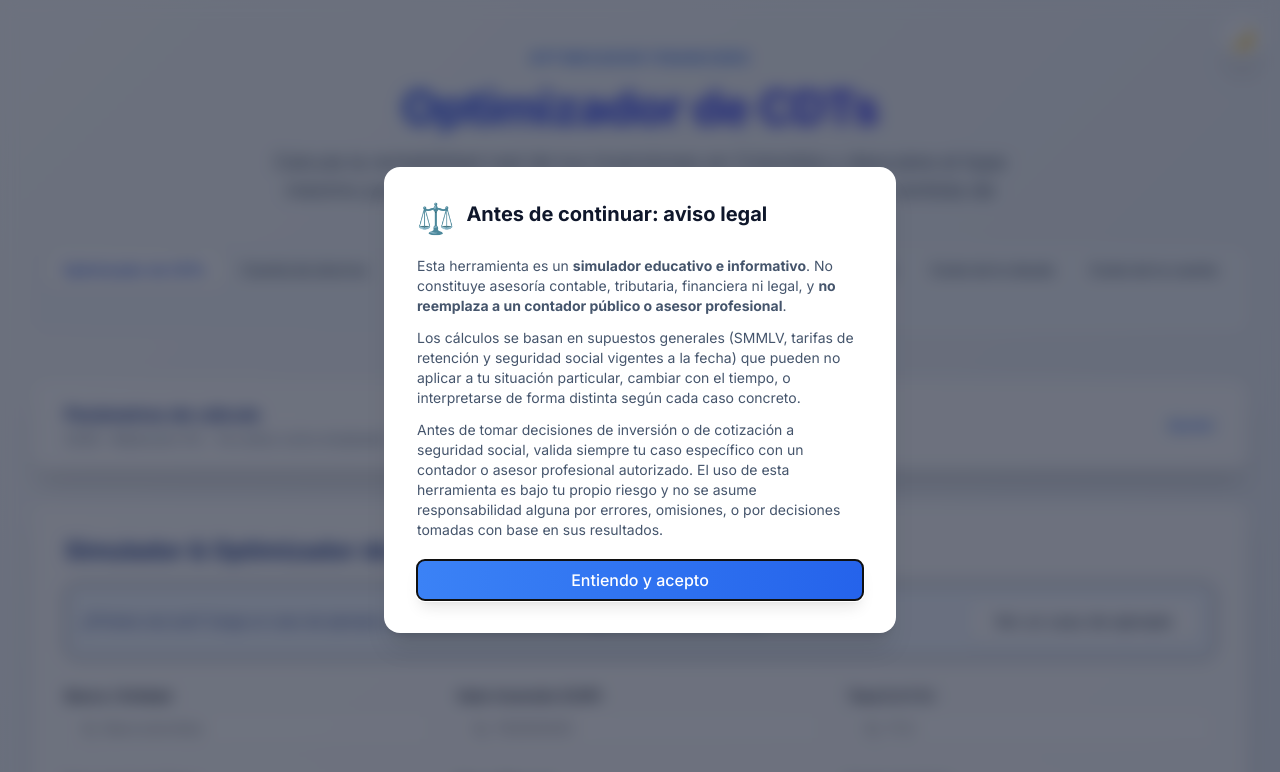
App › cambiar a la pestaña "Costo de tu deuda" muestra esa herramienta
Click the button "Entiendo y acepto" at (640, 580), box top-left (417, 560), bottom-right (863, 600)
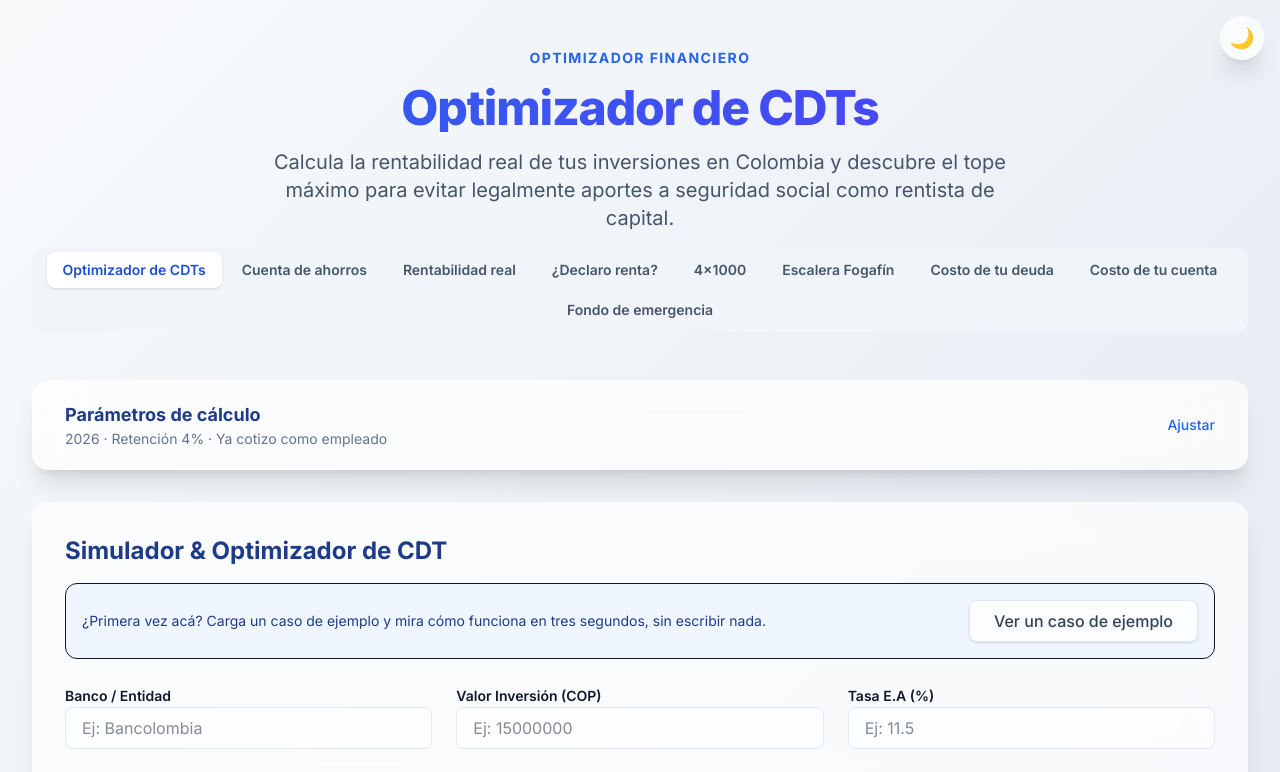
Click the link "Costo de tu deuda" at (992, 270), box top-left (930, 261), bottom-right (1054, 278)
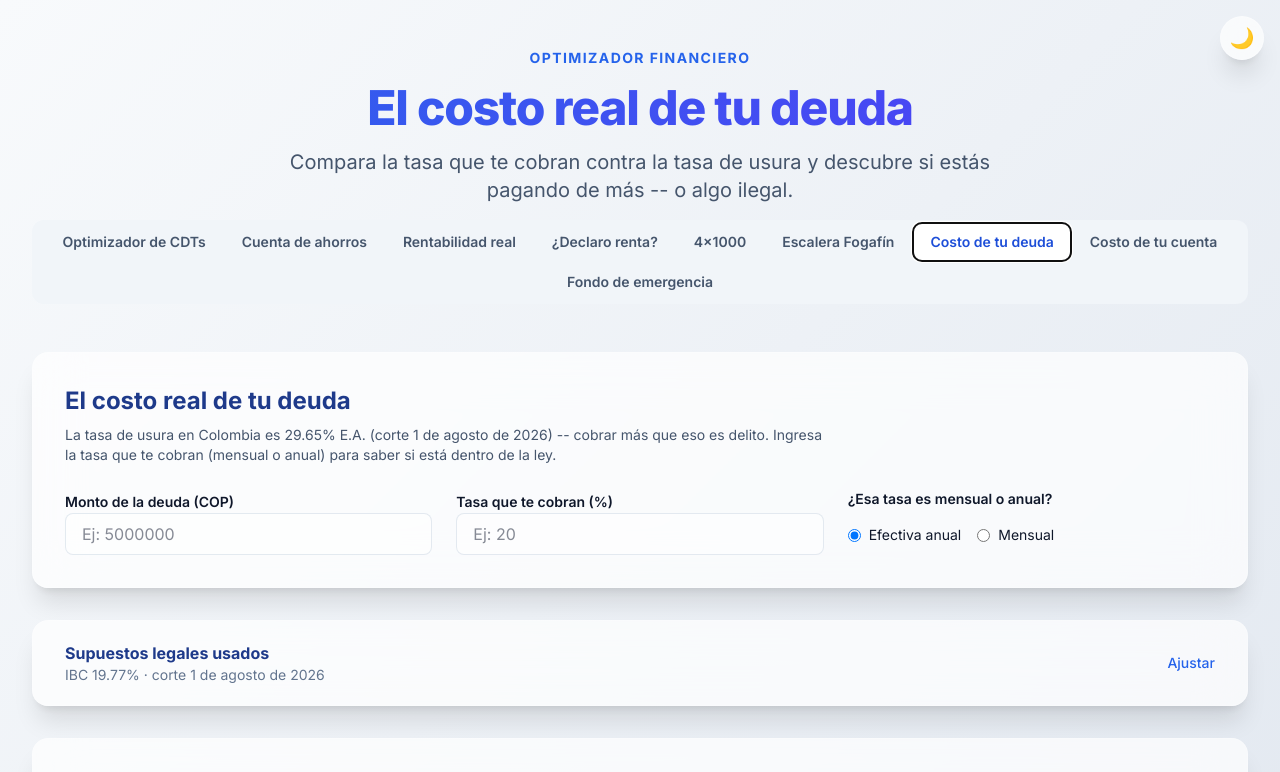
Now the heading "El costo real de tu deuda" below "Optimizador Financiero" is shown, box top-left (32, 84), bottom-right (1248, 132)
